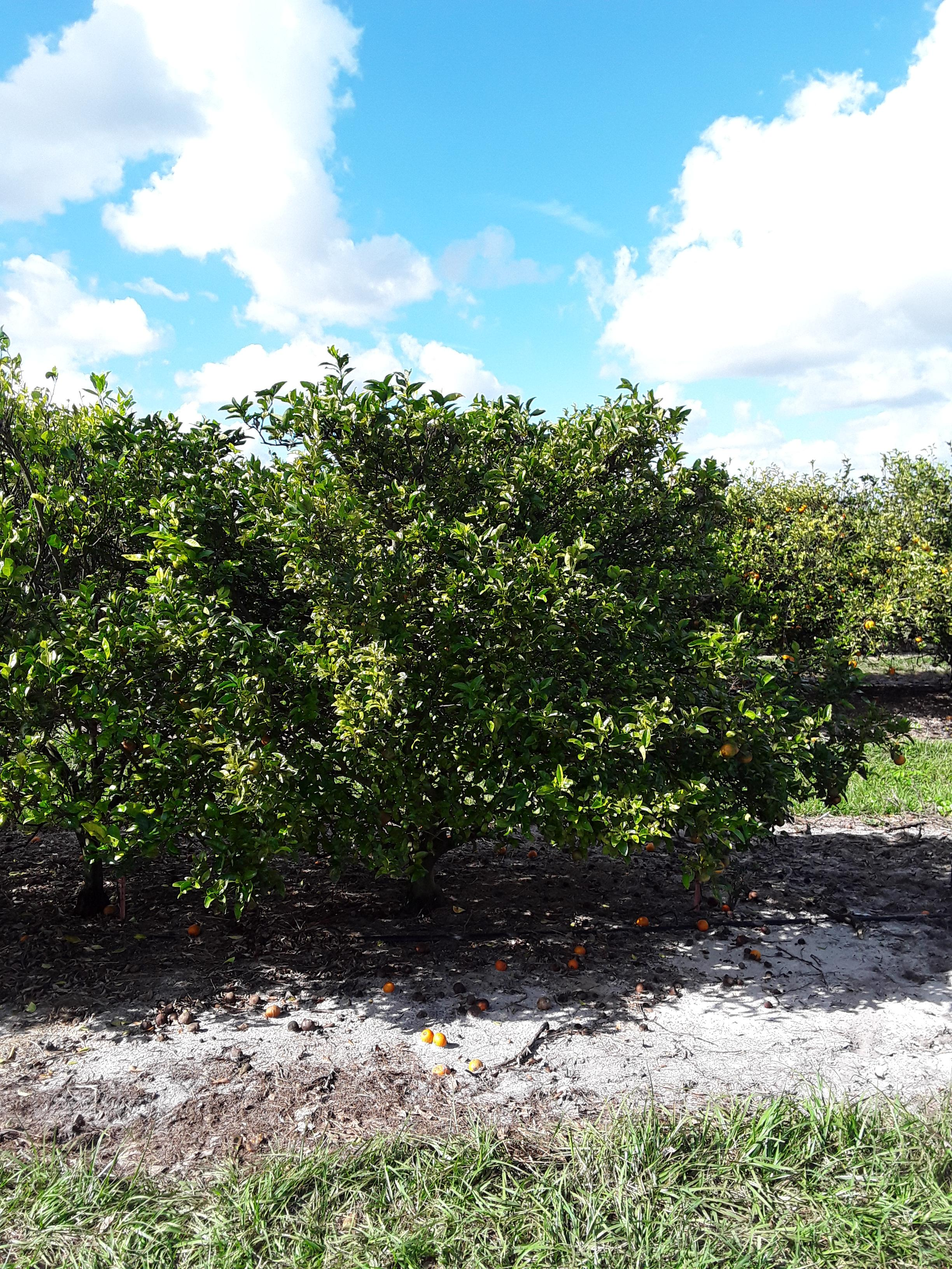fruit_on_ground: (175, 692, 196, 713), (716, 739, 738, 759), (196, 714, 217, 734), (169, 553, 190, 572), (374, 808, 395, 826), (119, 736, 137, 754), (737, 750, 755, 767), (826, 790, 843, 806), (247, 759, 263, 775), (570, 848, 585, 863), (688, 830, 703, 844), (892, 752, 907, 766), (746, 569, 761, 582), (258, 734, 271, 747), (862, 617, 875, 630), (847, 655, 858, 667), (914, 634, 925, 645), (782, 504, 794, 514), (797, 503, 808, 513), (921, 542, 932, 552), (838, 585, 848, 595), (910, 536, 920, 546), (851, 649, 860, 659)
fruit_on_tree: (432, 1062, 451, 1078), (263, 1003, 282, 1019), (432, 1031, 448, 1048), (186, 921, 202, 937), (467, 1057, 484, 1072), (301, 1017, 319, 1031), (100, 902, 116, 917), (536, 995, 552, 1010), (420, 1028, 435, 1044), (177, 1009, 192, 1024), (414, 941, 430, 955), (286, 1019, 301, 1033), (452, 981, 467, 995), (493, 958, 508, 972), (635, 914, 650, 928), (719, 975, 735, 988), (382, 980, 396, 994), (747, 947, 762, 960), (247, 993, 261, 1006), (154, 1011, 167, 1025), (696, 918, 710, 931), (185, 1021, 200, 1033), (476, 998, 489, 1011), (16, 932, 30, 944), (223, 992, 237, 1004), (643, 840, 657, 852), (573, 944, 587, 956), (29, 833, 42, 845), (526, 848, 539, 860), (706, 896, 719, 907), (734, 935, 747, 946), (566, 958, 579, 969), (795, 935, 807, 946), (747, 889, 759, 900), (634, 981, 645, 993), (495, 844, 507, 855), (919, 906, 931, 916), (758, 923, 770, 933), (451, 904, 462, 914), (720, 902, 731, 912)
